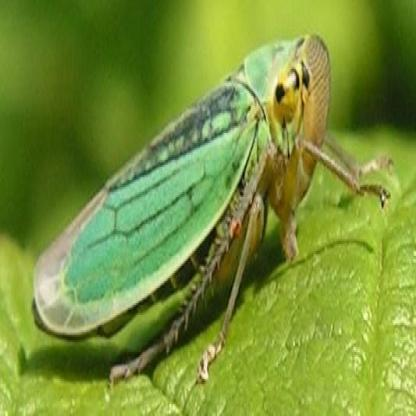Green-Leafhopper: (27, 29, 392, 386)
